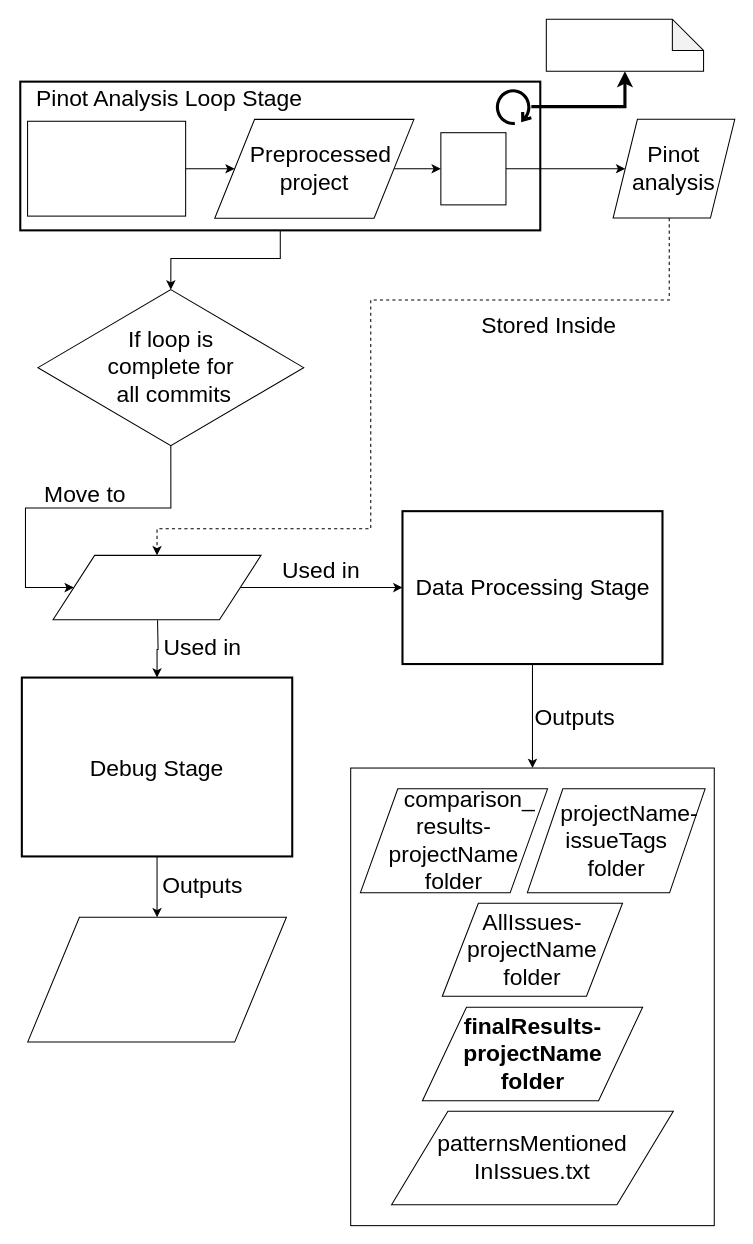
This 753x1244 diagram has some shape labels left out. Each missing label, with the centre of its shape:
"additional- -Information folder" belongs at (156,979).
"Loops for all commits" belongs at (624,44).
"Pinot" belongs at (473,168).
"pinot_outputs folder" belongs at (156,587).
"Preprocessing" belongs at (106,168).
